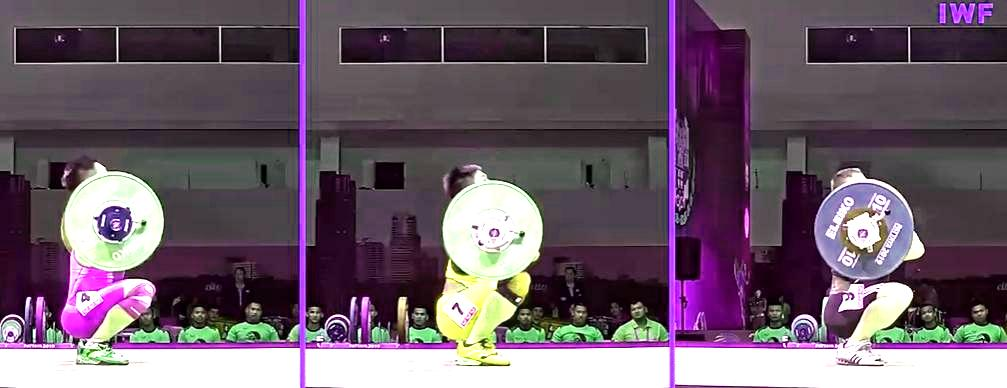Barbell: (854, 223, 871, 243), (489, 223, 506, 242), (107, 218, 125, 234)
